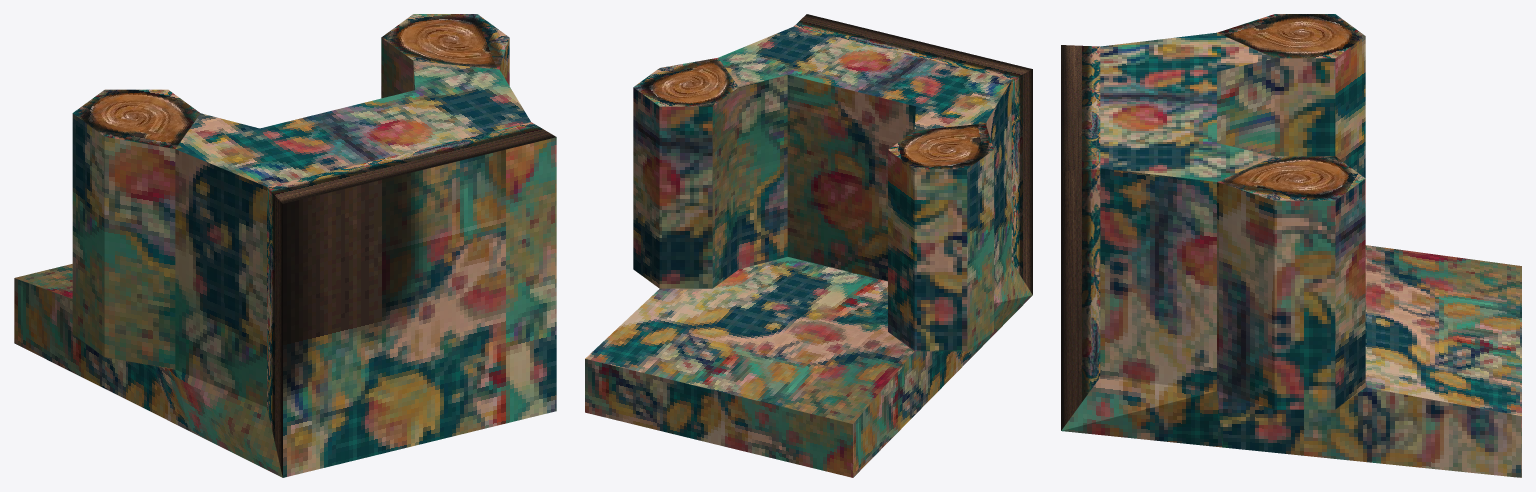
The model's file is sofa.glb.
3 views of the same model, side by side, from view 1: azimuth 30°, elevation 25°; view 2: azimuth 150°, elevation 25°; view 3: azimuth 270°, elevation 25° (orthographic). The views are drawn at different scales.
Parts seen in each view (by area): view 1: sofa; view 2: sofa; view 3: sofa.
Part boxes in pixels (bbox=[...]): sofa: bbox=[14, 14, 556, 477]; sofa: bbox=[585, 14, 1032, 477]; sofa: bbox=[1061, 14, 1521, 477].
Bounding box in the file's own units: 1.18 × 0.868 × 1.23.
1 material, 1 textured.
